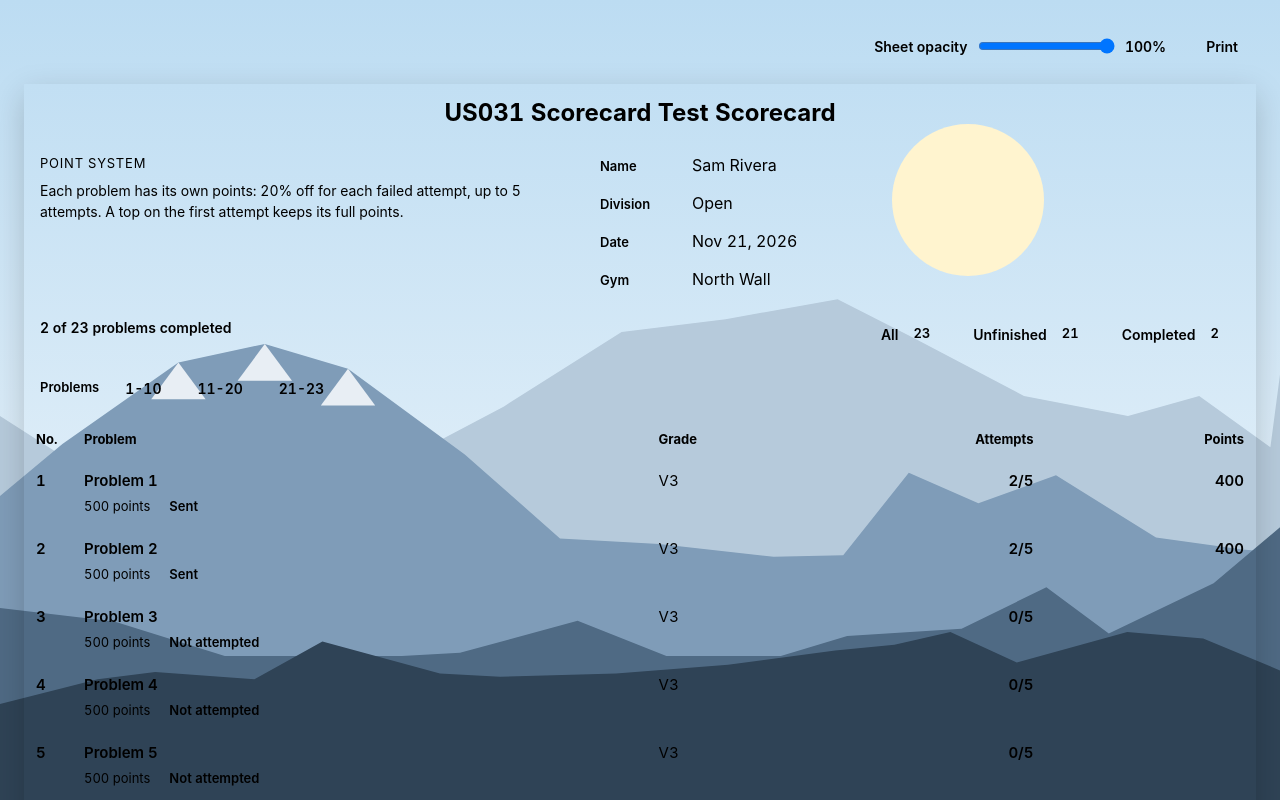
Scenario: US-031 the sheet's pages of 10 problems › jumps to a range of problems
Click the button named "Problems 21 to 23": point(301, 388) [265,366,338,410]
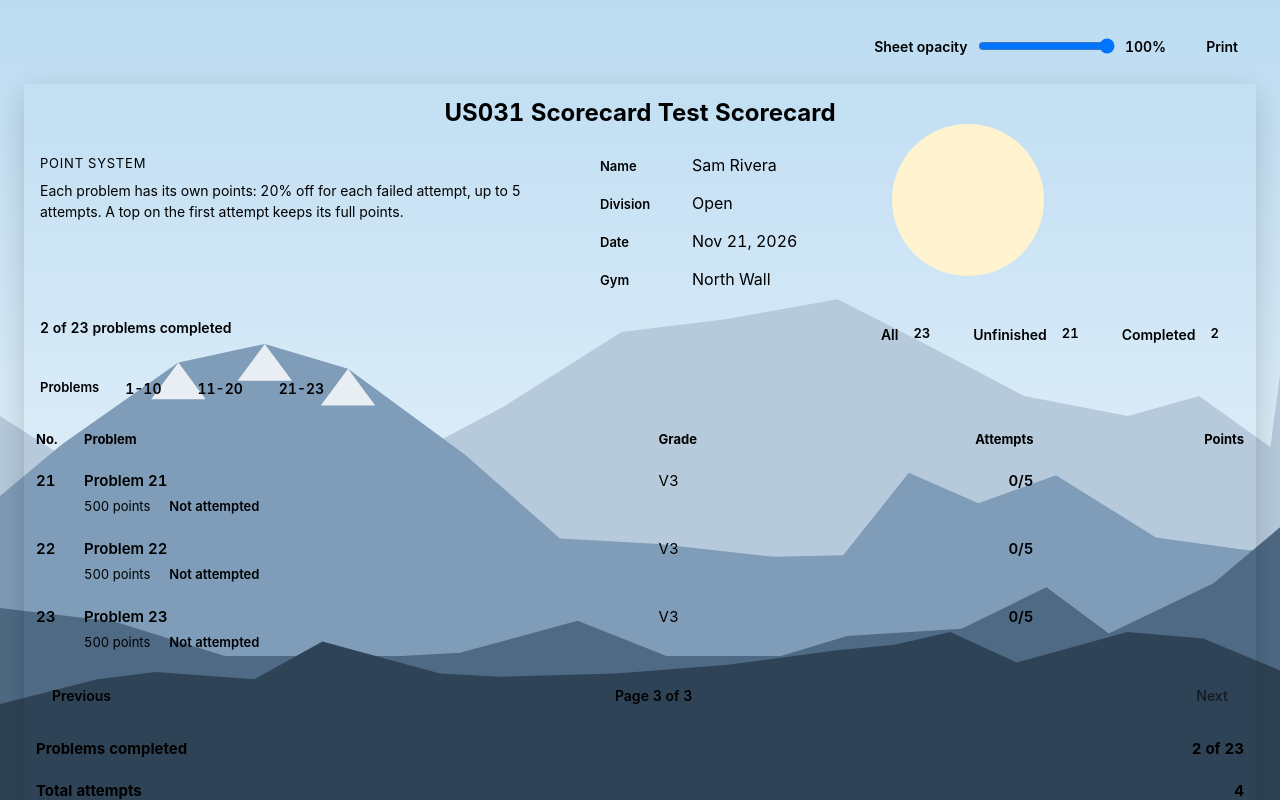
Expected: the text "Page 3 of 3" is shown, [615,685,692,706]
